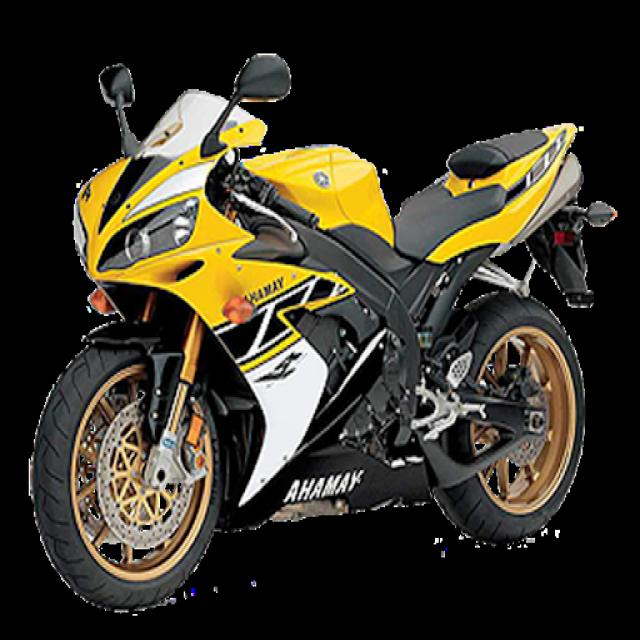bike: (32, 52, 618, 610)
